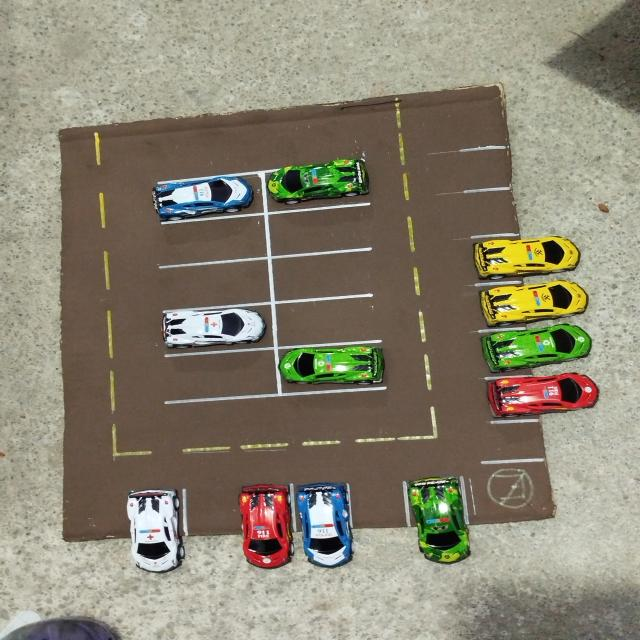libre: (60, 486, 128, 584), (463, 189, 593, 232), (459, 149, 595, 190), (186, 484, 243, 580), (154, 218, 268, 261), (486, 422, 606, 460), (157, 265, 272, 303), (268, 258, 380, 297), (163, 356, 277, 394), (266, 212, 374, 250), (356, 482, 406, 564), (275, 302, 379, 339)
no_estacionarse: (468, 462, 566, 524)
ocupado: (407, 477, 473, 567), (238, 481, 298, 576), (128, 485, 188, 578), (472, 287, 608, 328), (294, 480, 354, 572), (486, 375, 604, 421), (478, 331, 604, 374), (468, 237, 598, 278), (156, 304, 272, 348), (274, 347, 390, 387), (261, 165, 373, 205), (148, 181, 261, 214)
